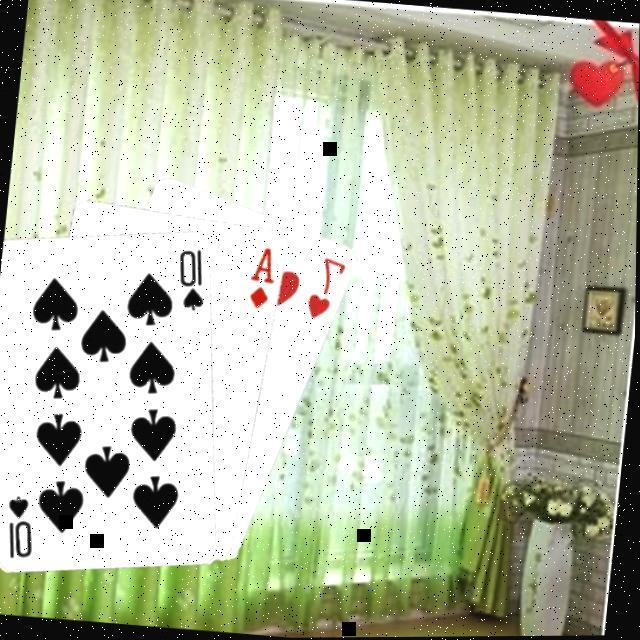10S: (1, 488, 44, 560), (172, 241, 213, 312)
7H: (303, 250, 352, 322)
AD: (246, 240, 283, 310)
